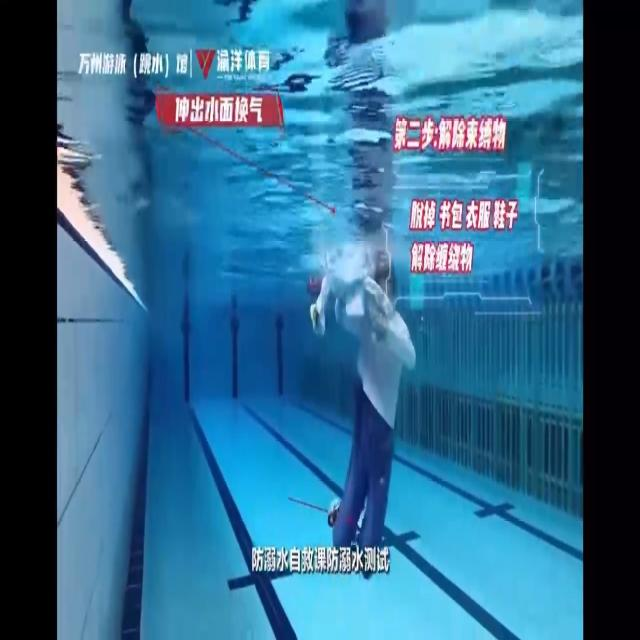Drowning: (327, 250, 416, 578)
